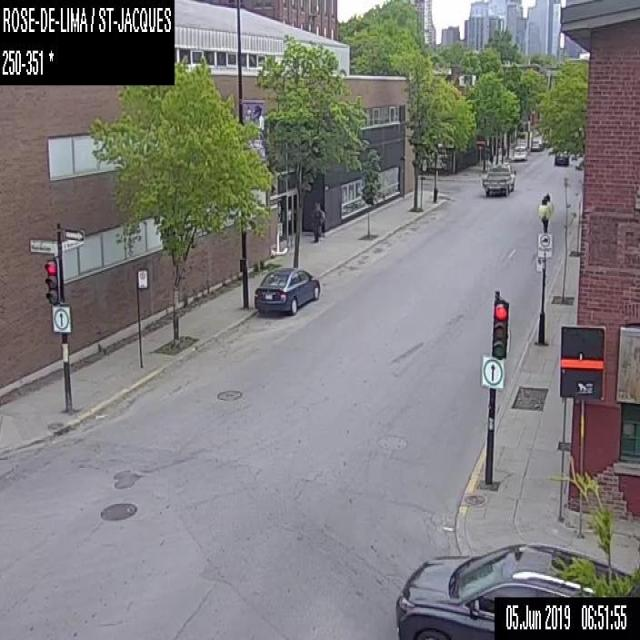pedestrian: (310, 200, 325, 245)
vehicle: (393, 538, 639, 638), (253, 262, 320, 314), (481, 161, 516, 196), (553, 150, 569, 166), (513, 144, 527, 159), (530, 135, 542, 150)
